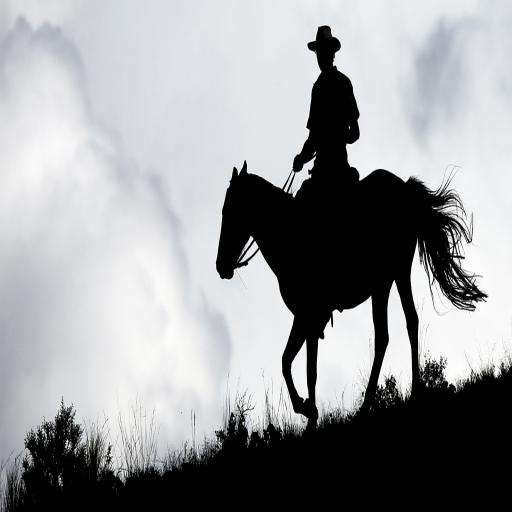Horse: (214, 158, 487, 432)
